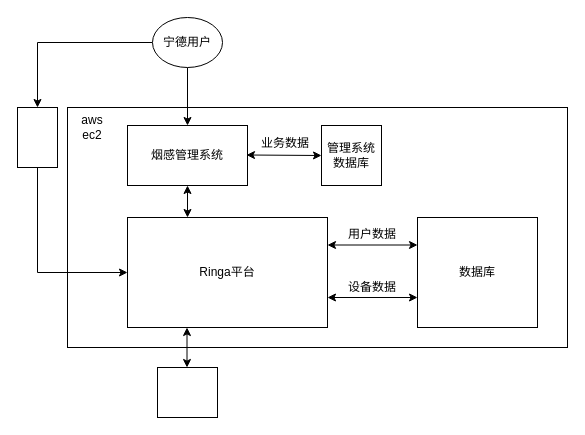
Image size: 585x435. Some labels were removed from this diagram. Each missing label, with the centre of its shape:
"APP" goes at (37,137).
"宁德烟感设备" goes at (187,392).
